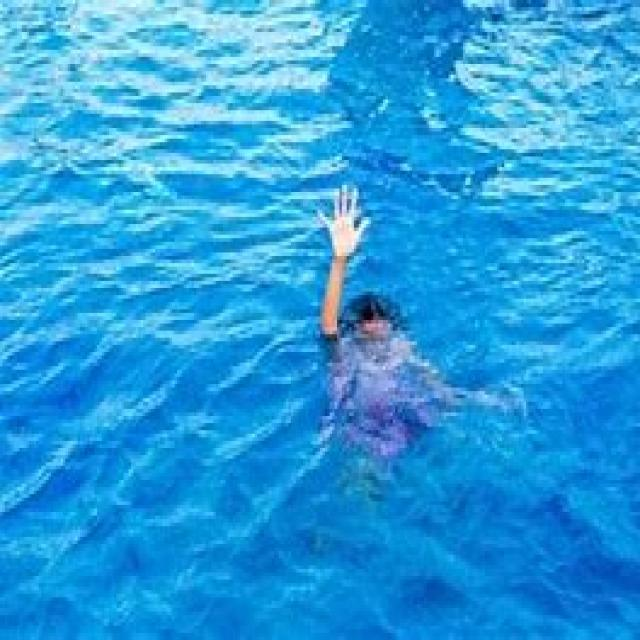Drowning: (299, 177, 445, 468)
